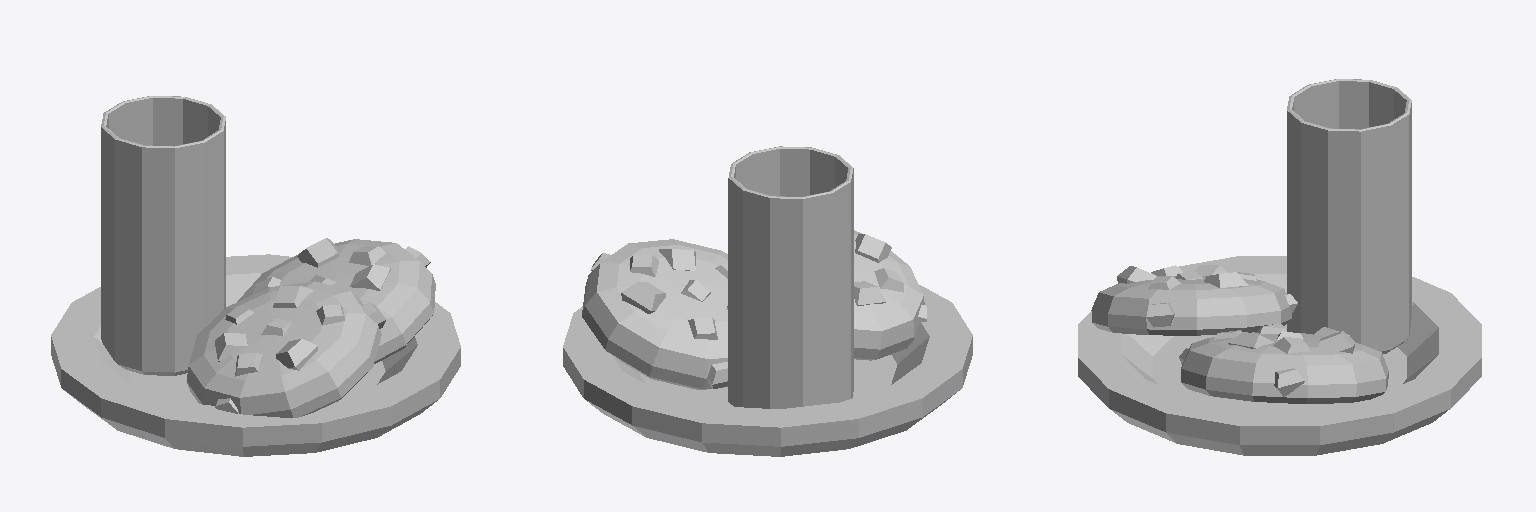
Rendered from plate_decorated_B.obj.
3 renders of one model, left to right at view 1: azimuth 30°, elevation 25°; view 2: azimuth 150°, elevation 25°; view 3: azimuth 270°, elevation 25°, orthographic.
Visible parts, largest first — view 1: plate_decorated_B; view 2: plate_decorated_B; view 3: plate_decorated_B.
Part boxes in pixels (bbox=[...]): plate_decorated_B: bbox=[51, 96, 460, 456]; plate_decorated_B: bbox=[563, 146, 972, 456]; plate_decorated_B: bbox=[1078, 79, 1481, 455].
Bounding box in the file's own units: 0.95 × 0.642 × 0.95.